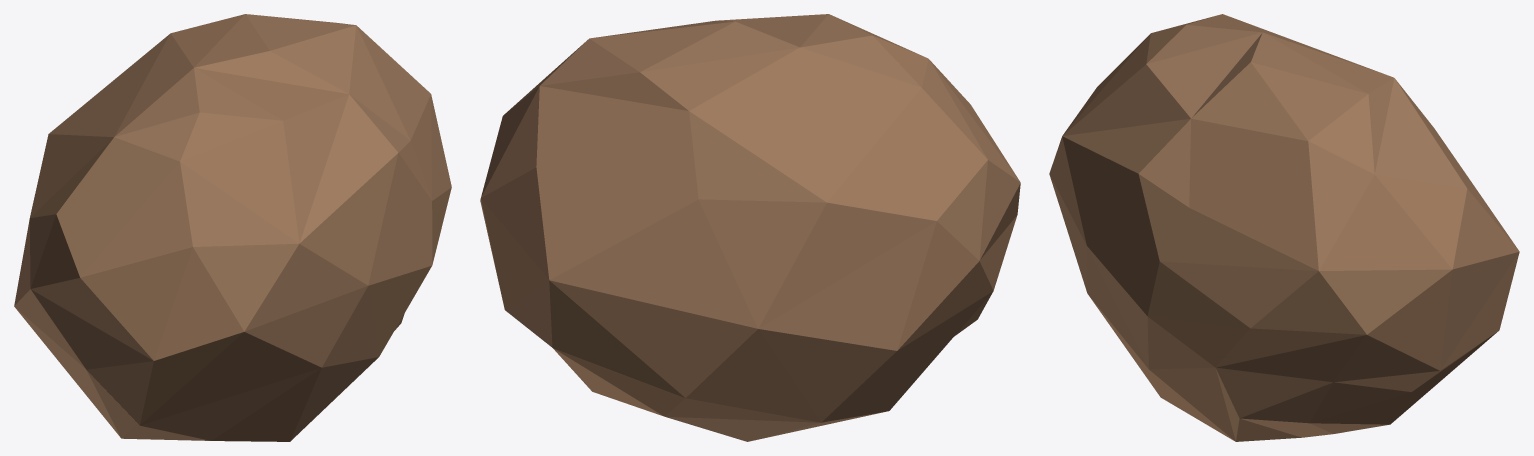
The model's file is Boulder_01_Round.fbx.
3 views of the same model, side by side, from view 1: azimuth 30°, elevation 25°; view 2: azimuth 150°, elevation 25°; view 3: azimuth 270°, elevation 25° (orthographic). The views are drawn at different scales.
Visible parts, largest first — view 1: Boulder_01_Round; view 2: Boulder_01_Round; view 3: Boulder_01_Round.
Part boxes in pixels (x1,y1,x2,y2): Boulder_01_Round: (14, 14, 451, 441); Boulder_01_Round: (480, 14, 1020, 441); Boulder_01_Round: (1049, 14, 1519, 441).
Size of the model in its own units: 2.79 by 2.32 by 2.63.
